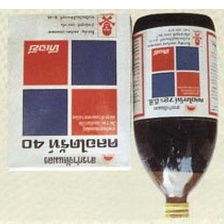book: (0, 9, 136, 175)
insecticide: (129, 8, 221, 221)
